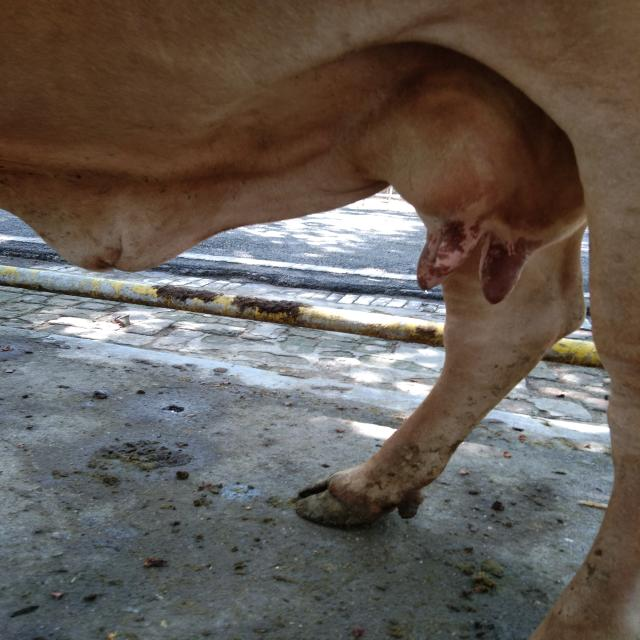Hoof: (294, 466, 423, 528)
